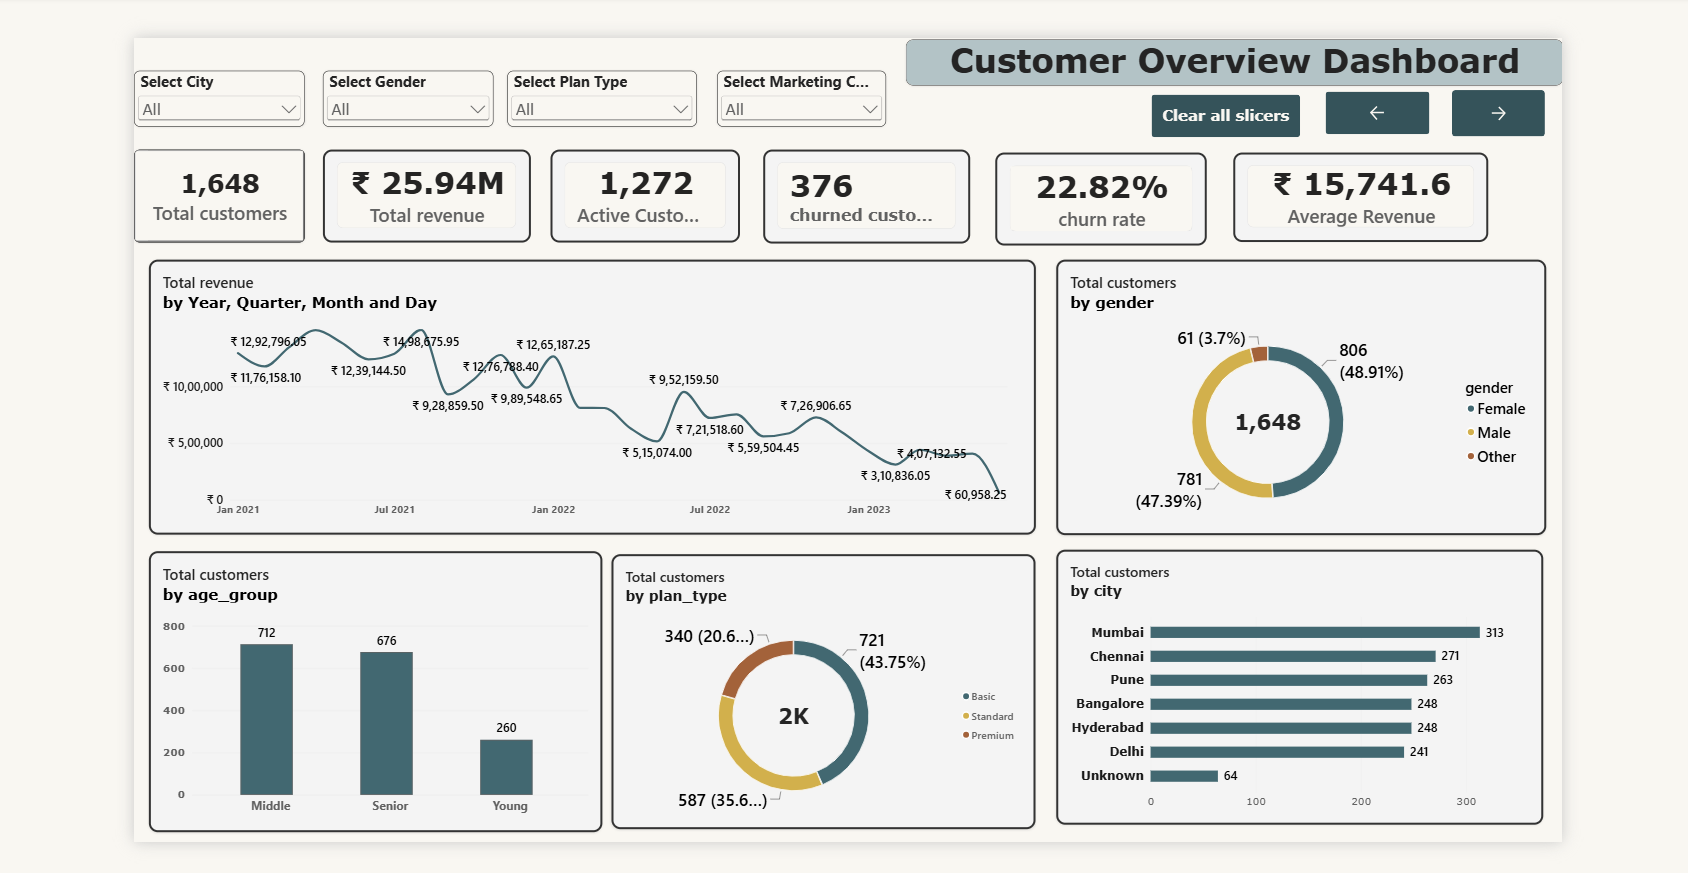

The page's visual inventory and layout, read from the dashboard file:
{"tool":"powerbi","page":{"name":"Customer_Overview","canvas":[1920,1080],"ordinal":1},"visuals":[{"type":"cardVisual","fields":{"Data":["Table1.Total customers"]},"box":[0,150,230,125],"z":0},{"type":"clusteredBarChart","fields":{"Category":["Table1.city"],"Y":["Table1.Total customers"]},"box":[1240,687.5,655,370],"z":0,"group":"g1"},{"type":"cardVisual","fields":{"Data":["Table1.Total revenue"]},"box":[254.8,150,279.5,125],"z":1000},{"type":"donutChart","fields":{"Category":["Table1.gender"],"Y":["Table1.Total customers"]},"box":[1241,297.8,659.1,370.5],"z":1000,"group":"g1"},{"type":"cardVisual","fields":{"Data":["Table1.Active Customers"]},"box":[559.5,150,255,125],"z":2000},{"type":"donutChart","fields":{"Category":["Table1.plan_type"],"Y":["Table1.Total customers"]},"box":[643.2,693.2,570,370],"z":2000,"group":"g1"},{"type":"cardVisual","fields":{"Data":["Table1.churned customers"]},"box":[845.2,150,278.6,126.2],"z":3000},{"type":"clusteredColumnChart","fields":{"Category":["Table1.age_group"],"Y":["Table1.Total customers"]},"box":[20.5,688.7,610,377.5],"z":3000,"group":"g1"},{"type":"cardVisual","fields":{"Data":["Table1.churn rate"]},"box":[1157.1,154.8,284.1,125],"z":4000},{"type":"lineChart","fields":{"Category":["Table1.signup_period.Variation.Date Hierarchy.Year","Table1.signup_period.Variation.Date Hierarchy.Quarter","Table1.signup_period.Variation.Date Hierarchy.Month","Table1.signup_period.Variation.Date Hierarchy.Day"],"Y":["Table1.Total revenue"]},"box":[20.5,297.8,1192.5,370],"z":4000,"group":"g1"},{"type":"cardVisual","fields":{"Data":["Table1.Average Revenue per Customer"]},"box":[1478.6,154.8,343.2,120.5],"z":5000},{"type":"slicer","fields":{"Values":["Table1.city"]},"box":[0,43.2,229.5,75],"z":6000},{"type":"slicer","fields":{"Values":["Table1.gender"]},"box":[254.5,43.2,229.5,75],"z":7000},{"type":"slicer","fields":{"Values":["Table1.plan_type"]},"box":[502.3,43.2,254.5,75],"z":8000},{"type":"slicer","fields":{"Values":["Table1.marketing_channel"]},"box":[784.1,43.2,227.3,75],"z":9000},{"type":"textbox","title":"          Customer Overview Dashboard","box":[1038.1,2.4,883.3,61.9],"z":10000},{"type":"actionButton","box":[1367.5,75,200,57.5],"z":11000},{"type":"group","id":"g1","title":"Customer","box":[20.5,69.4,1879.5,996.8],"z":12000},{"type":"actionButton","box":[1771.9,69.4,125,62.5],"z":12001,"group":"g1"},{"type":"actionButton","box":[1602.5,72.5,140,57.5],"z":12001}]}

Visuals, with their boxes on the page's 1920x1080 design canvas (x1, y1, x2, y2). These are canvas units, not pixel positions in the 1688x873 screenshot, which may show the page scaled, cropped or inside an application window:
cardVisual - Table1.Total customers: crop(0, 150, 230, 275)
clusteredBarChart - Table1.city x Table1.Total customers: crop(1240, 688, 1895, 1058)
cardVisual - Table1.Total revenue: crop(255, 150, 534, 275)
donutChart - Table1.gender x Table1.Total customers: crop(1241, 298, 1900, 668)
cardVisual - Table1.Active Customers: crop(560, 150, 814, 275)
donutChart - Table1.plan_type x Table1.Total customers: crop(643, 693, 1213, 1063)
cardVisual - Table1.churned customers: crop(845, 150, 1124, 276)
clusteredColumnChart - Table1.age_group x Table1.Total customers: crop(20, 689, 630, 1066)
cardVisual - Table1.churn rate: crop(1157, 155, 1441, 280)
lineChart - Table1.signup_period.Variation.Date Hierarchy.Year x Table1.signup_period.Variation.Date Hierarchy.Quarter: crop(20, 298, 1213, 668)
cardVisual - Table1.Average Revenue per Customer: crop(1479, 155, 1822, 275)
slicer - Table1.city: crop(0, 43, 230, 118)
slicer - Table1.gender: crop(254, 43, 484, 118)
slicer - Table1.plan_type: crop(502, 43, 757, 118)
slicer - Table1.marketing_channel: crop(784, 43, 1011, 118)
"          Customer Overview Dashboard" textbox: crop(1038, 2, 1921, 64)
actionButton: crop(1368, 75, 1568, 132)
"Customer" group: crop(20, 69, 1900, 1066)
actionButton: crop(1772, 69, 1897, 132)
actionButton: crop(1602, 72, 1742, 130)
